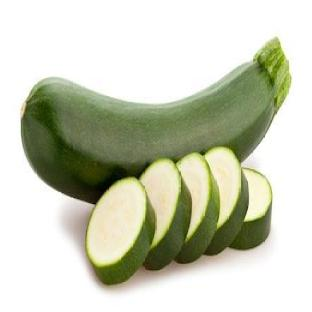Zucchini: (22, 39, 290, 202), (86, 178, 154, 284), (140, 159, 191, 269), (176, 153, 219, 262), (205, 147, 248, 254), (231, 168, 272, 249)
